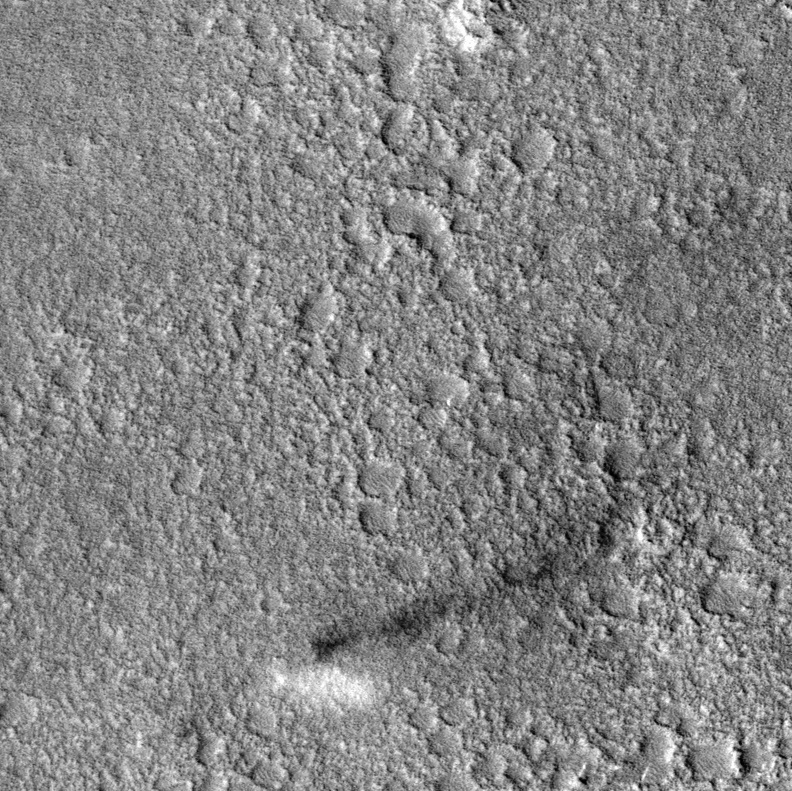dust_devil: (267, 523, 615, 714)
